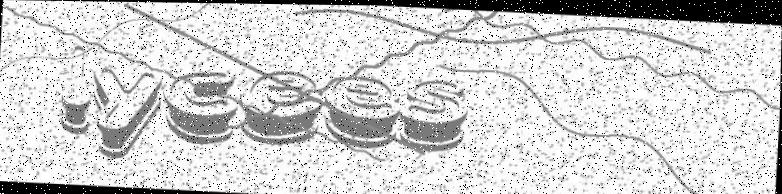c: (161, 68, 241, 147)
e: (238, 66, 324, 145), (322, 70, 403, 150)
l: (59, 42, 96, 135)
s: (399, 76, 471, 153)
y: (90, 67, 163, 160)
